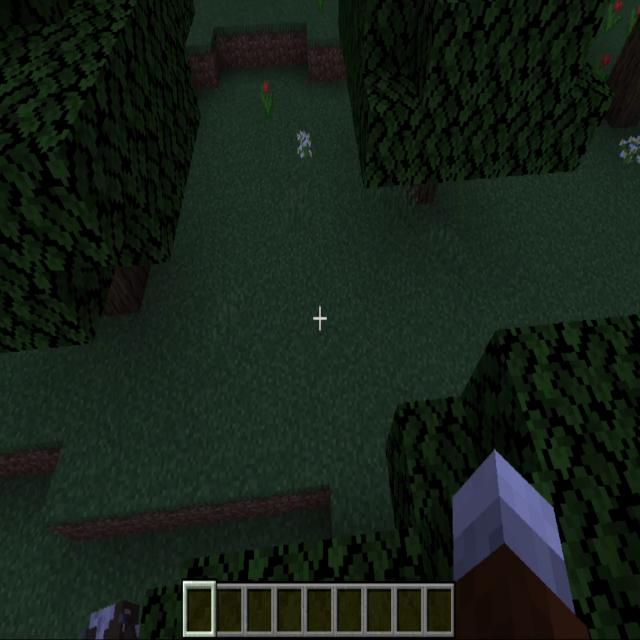Cow: (83, 589, 144, 640)
